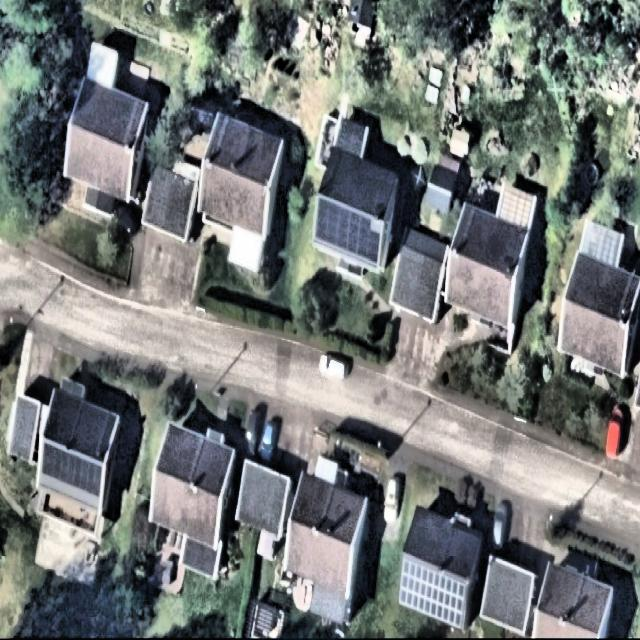roof_pv: (399, 556, 465, 627), (315, 199, 381, 264), (42, 442, 104, 500)
